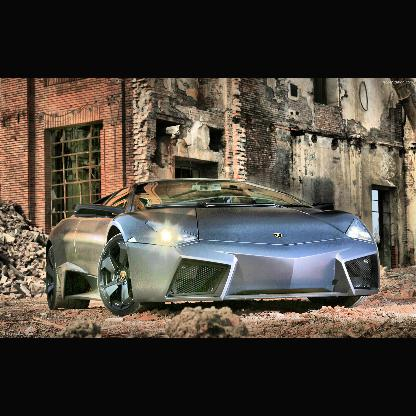Lamborghini Reventon Coupe 2008: (46, 178, 383, 317)
